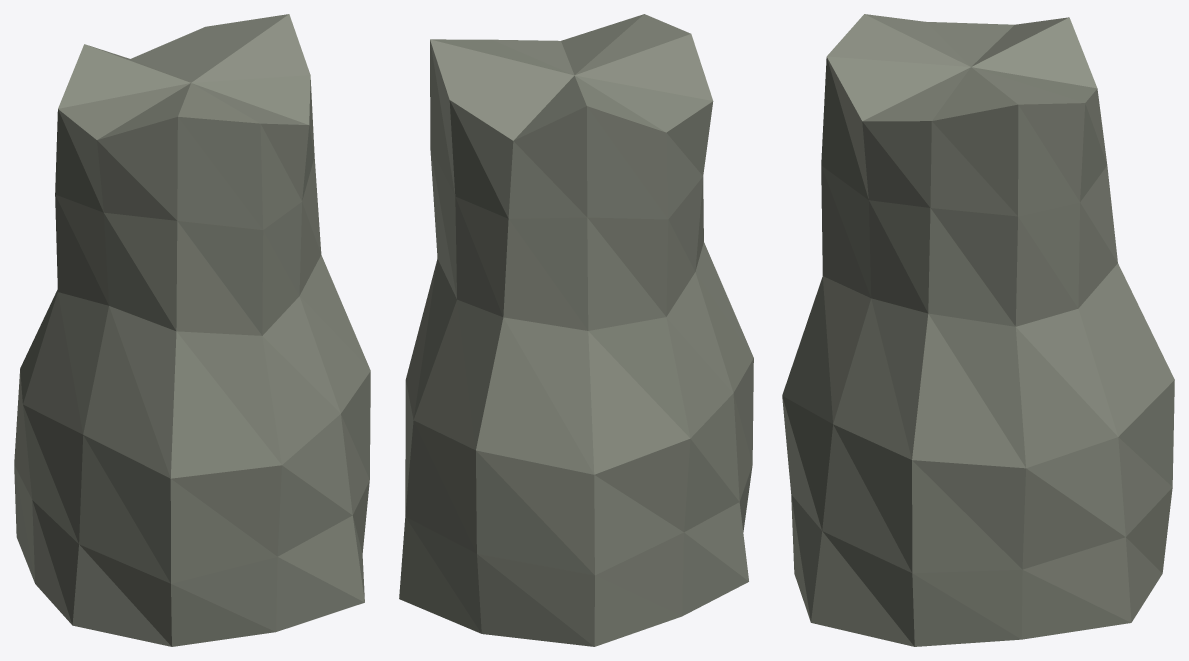
3 views of the same model, side by side, from view 1: azimuth 30°, elevation 25°; view 2: azimuth 150°, elevation 25°; view 3: azimuth 270°, elevation 25° (orthographic). The views are drawn at different scales.
Parts seen in each view (by area): view 1: 破岩形状与干湿色尺寸族; view 2: 破岩形状与干湿色尺寸族; view 3: 破岩形状与干湿色尺寸族.
Part boxes in pixels (left/top/right/bottom): 破岩形状与干湿色尺寸族: left=14, top=14, right=370, bottom=646; 破岩形状与干湿色尺寸族: left=399, top=14, right=753, bottom=646; 破岩形状与干湿色尺寸族: left=782, top=14, right=1174, bottom=646.
Size of the model in its own units: 2.33 by 4.01 by 2.56.
2 materials, 2 textured.
